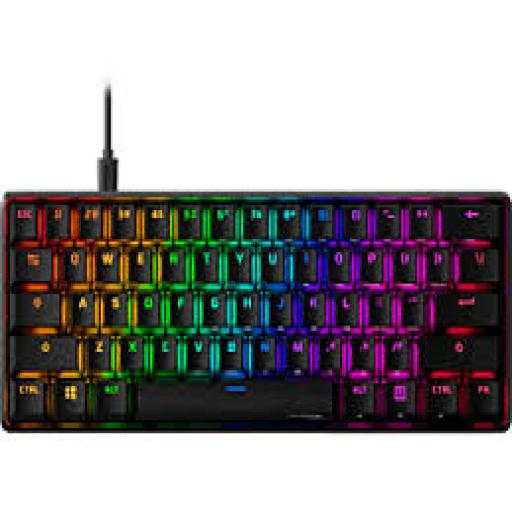keyboard: (0, 189, 508, 431)
